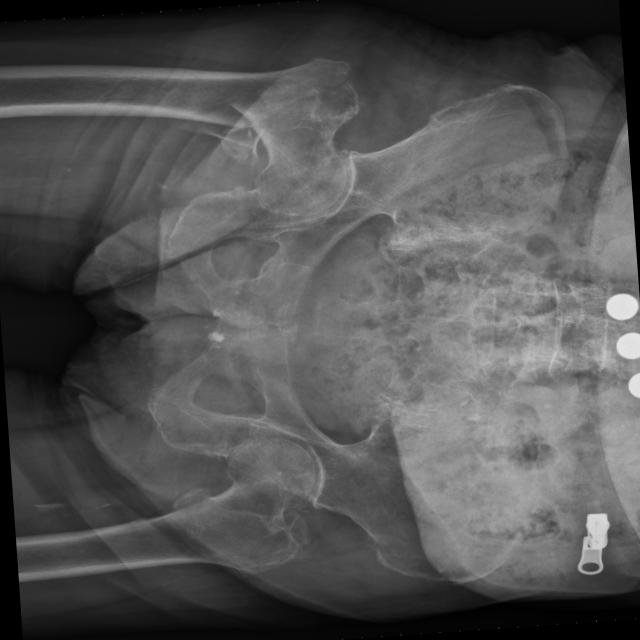normal-left: (95, 436, 317, 575)
right-intertrochanteric: (228, 79, 358, 216), (163, 58, 350, 127)
right-lesser-trochanter: (176, 122, 263, 165)
